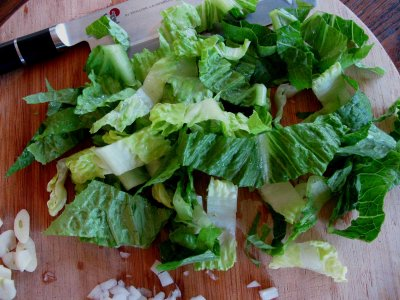chopped lettuce: (70, 19, 371, 251)
